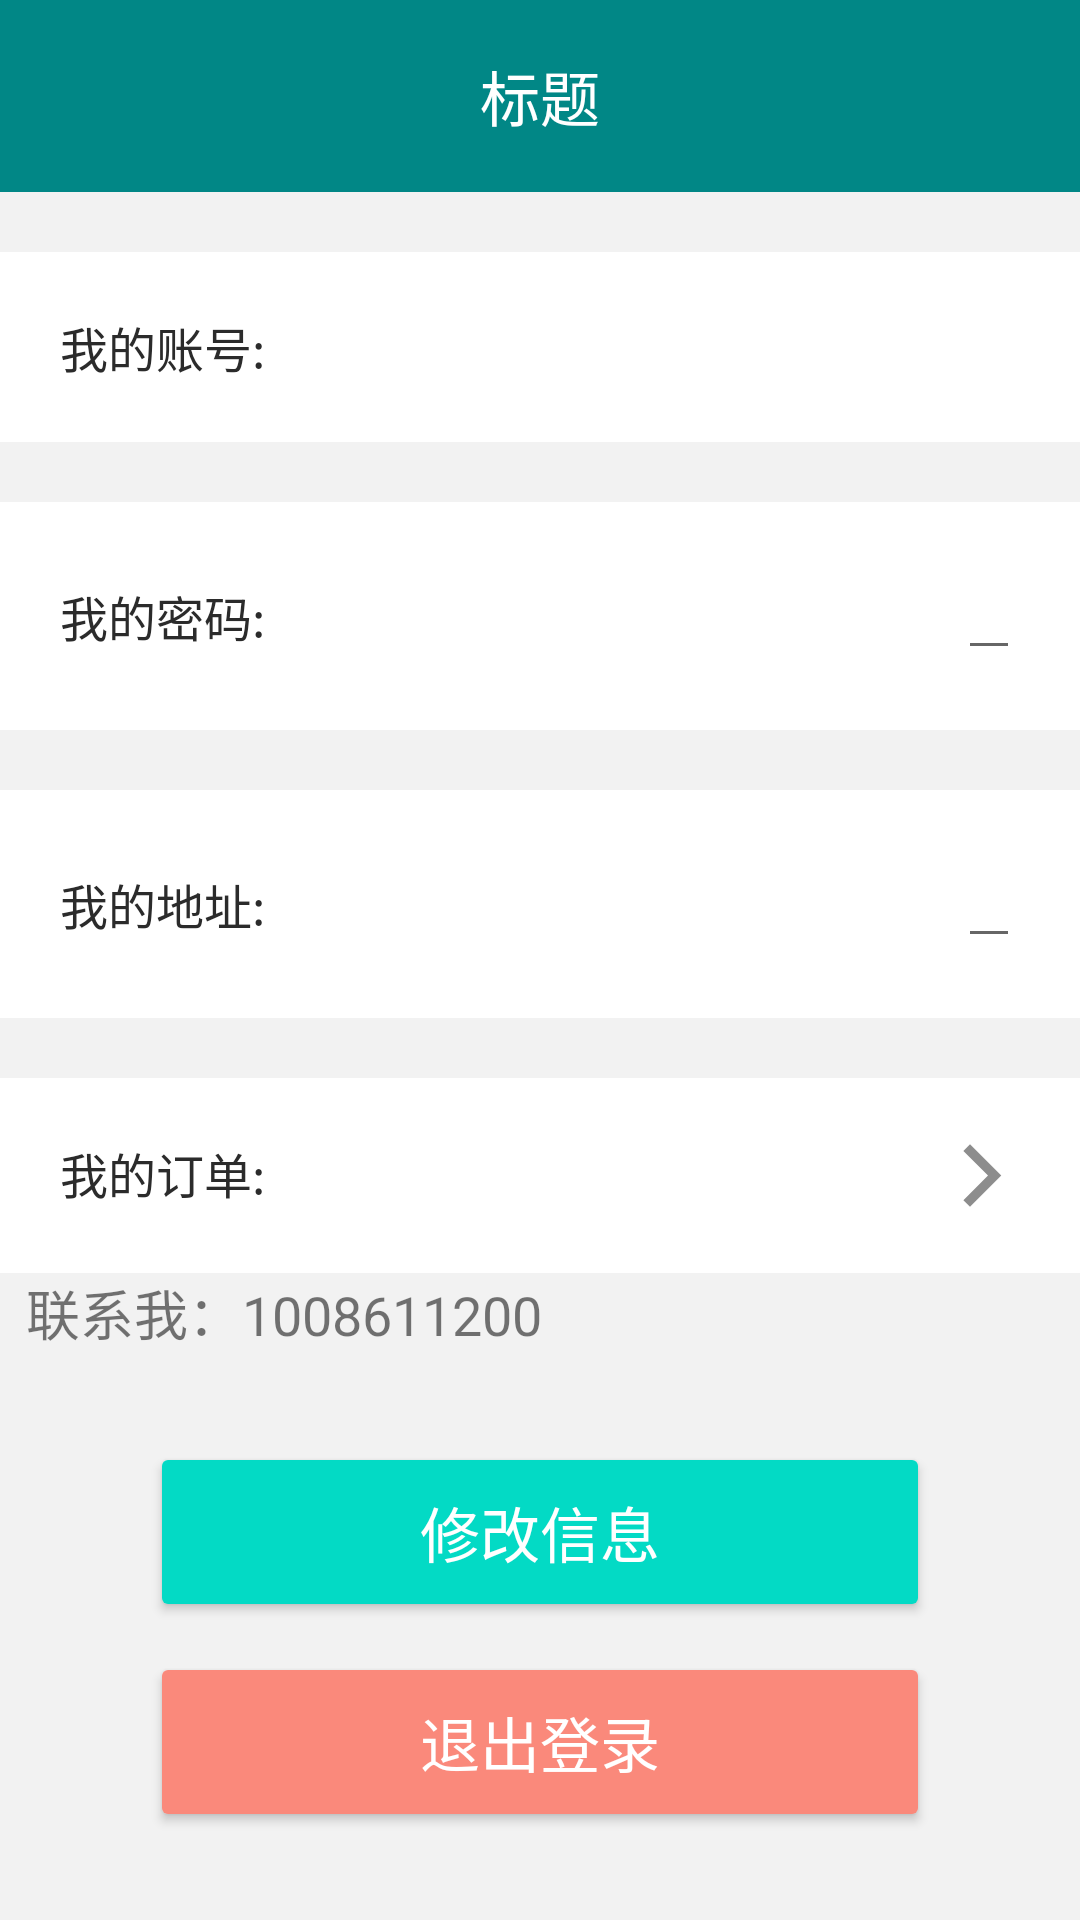

Named icons in this screenshot (1080 × 1920) and their bounding boxes, (x1, y1, x2, y2):
right arrow: (963, 1144, 1001, 1207)
